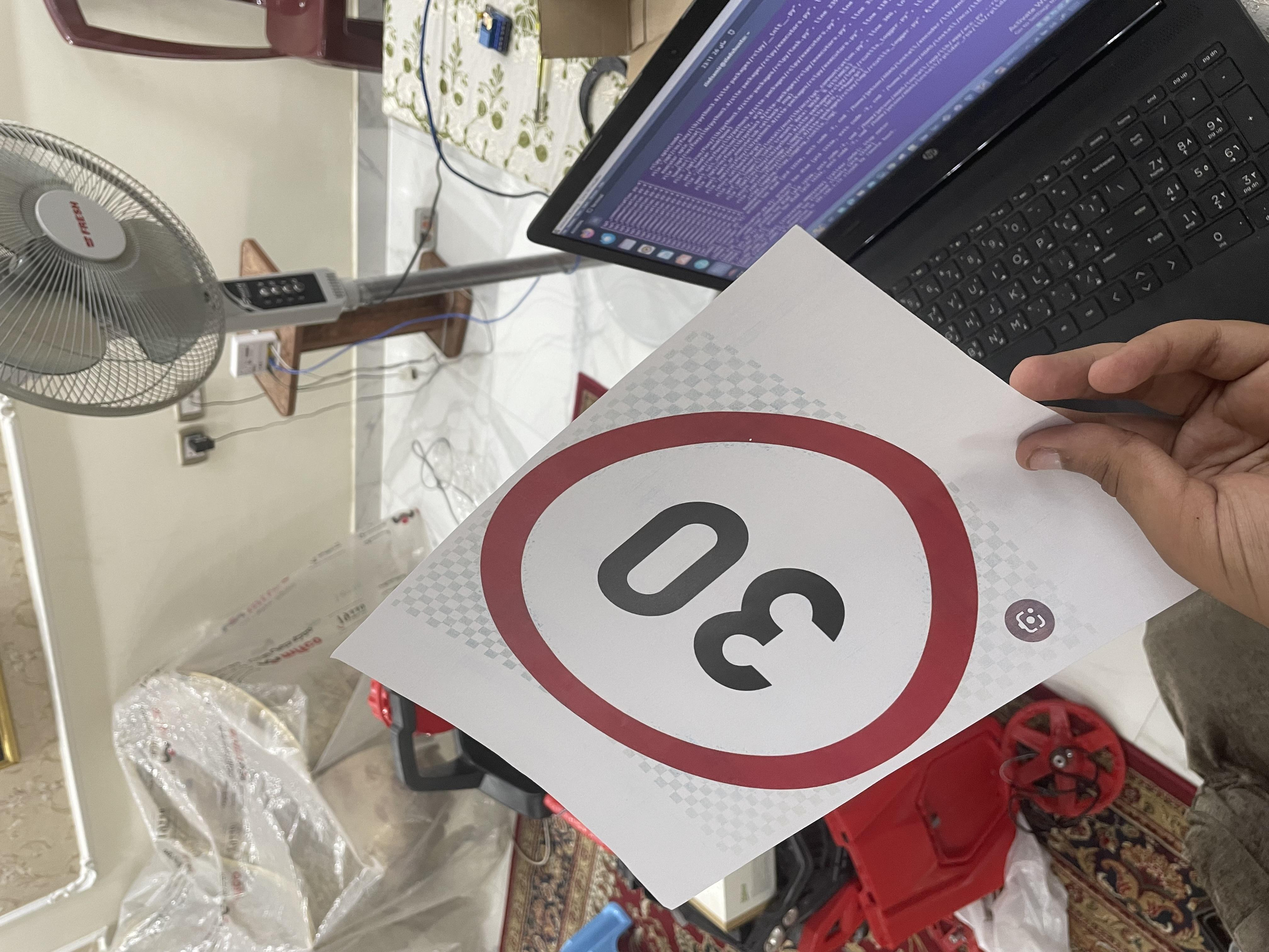30-speed: (194, 352, 724, 736)
